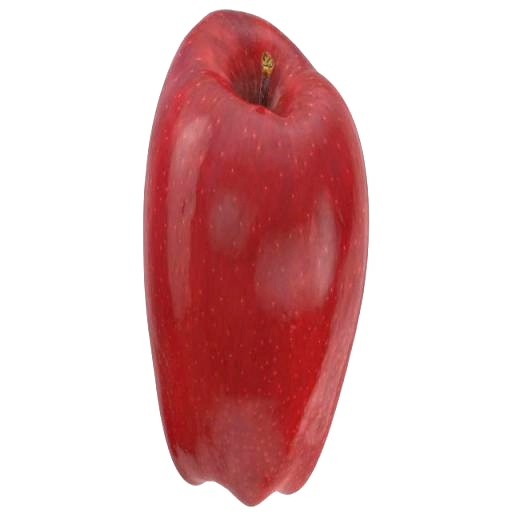fruit: (71, 123, 217, 445)
